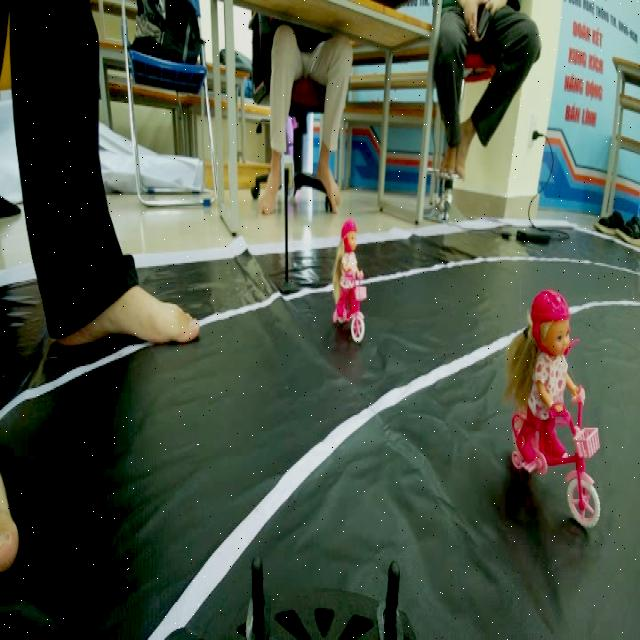pedestrian: (505, 268, 606, 540), (319, 206, 376, 348)
